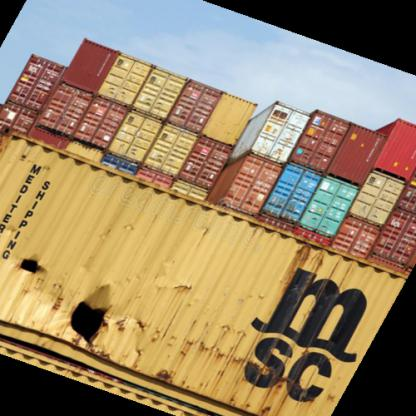Damage: (108, 309, 266, 368), (64, 287, 113, 363), (14, 252, 51, 284)
